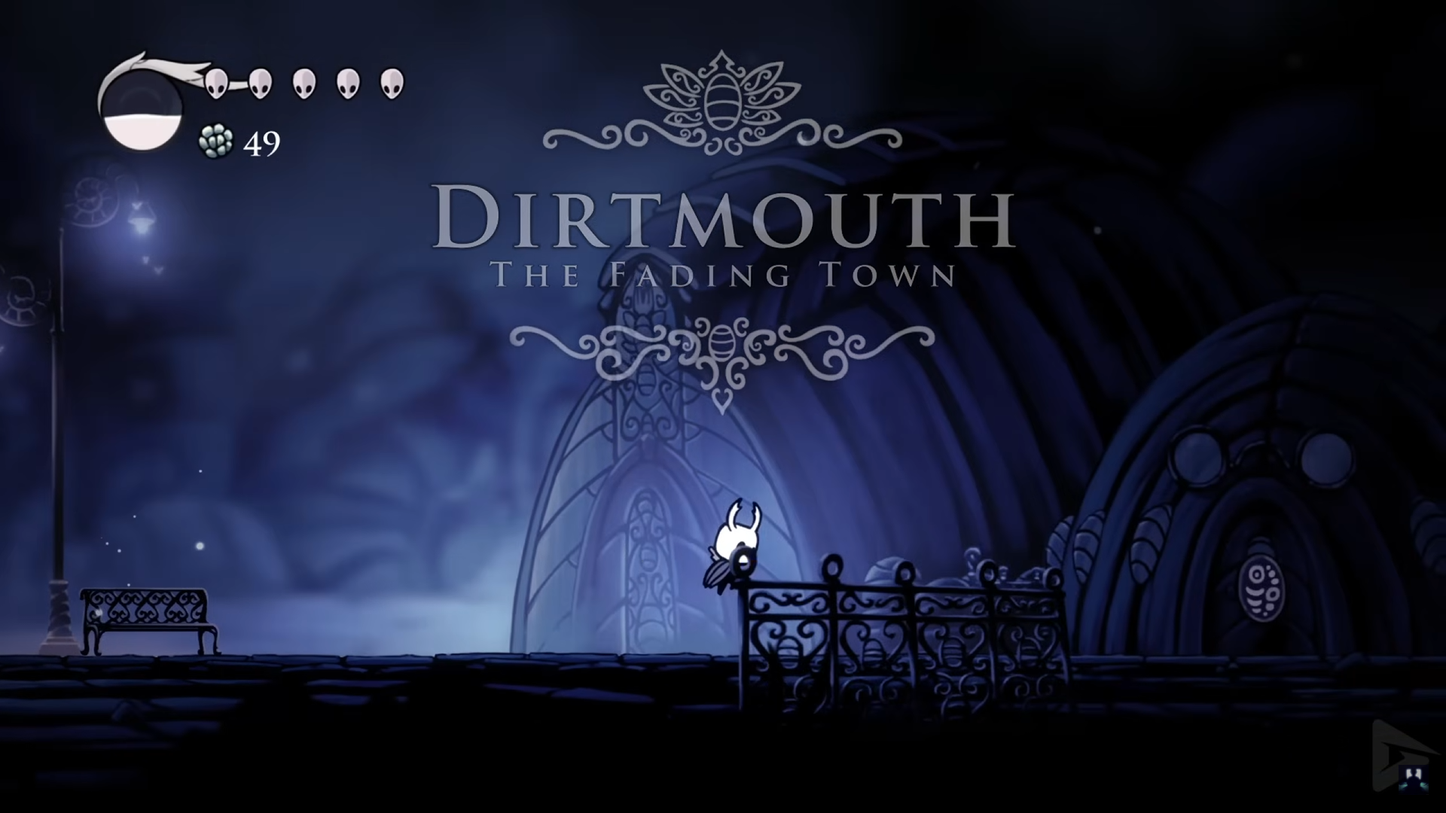HK: (704, 496, 766, 602)
